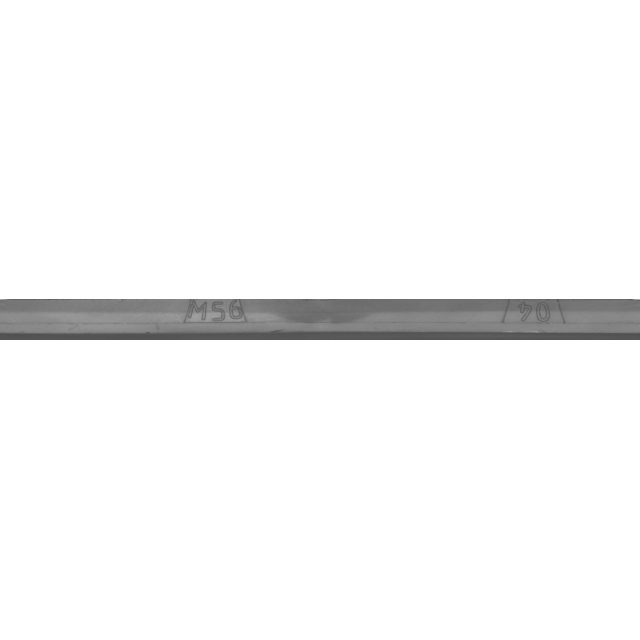mohao: (115, 270, 315, 370)
xuehao: (438, 270, 638, 370)
